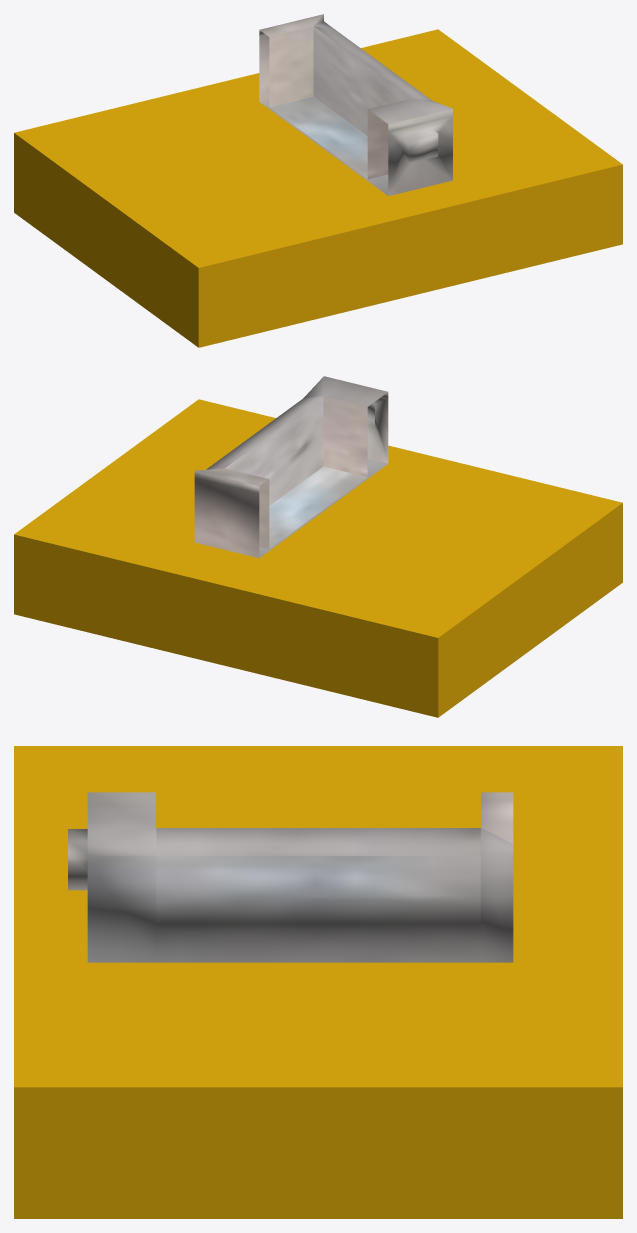
File: benda34.glb
The picture shows the model from 3 angles, top to bottom: view 1: azimuth 30°, elevation 25°; view 2: azimuth 150°, elevation 25°; view 3: azimuth 270°, elevation 25°; orthographic projection. The views are drawn at different scales.
Visible parts, largest first — view 1: Cube.002, Cube; view 2: Cube.002, Cube; view 3: Cube.002, Cube.
Part boxes in pixels (x1,y1,x2,y2): Cube.002: (14, 29, 622, 347); Cube: (259, 14, 452, 196); Cube.002: (14, 399, 622, 717); Cube: (194, 376, 388, 558); Cube.002: (14, 746, 622, 1218); Cube: (68, 792, 513, 962).
Size of the model in its own units: 3.92 by 1.37 by 2.96.
2 materials, 1 textured.
